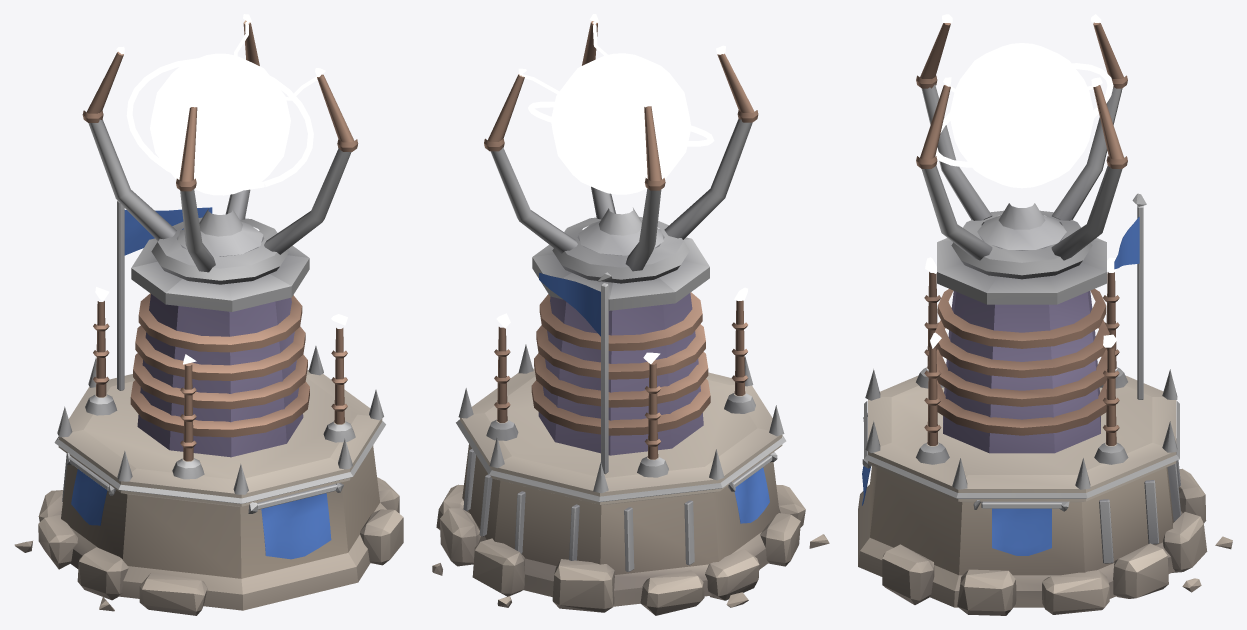
File: spark_2_8.glb
3 renders of one model, left to right at view 1: azimuth 30°, elevation 25°; view 2: azimuth 150°, elevation 25°; view 3: azimuth 270°, elevation 25°, orthographic. The views are drawn at different scales.
Parts seen in each view (by area): view 1: Tower, Turret; view 2: Tower, Turret; view 3: Tower, Turret.
Boxes of the visible parts, <box> form: Tower: <box>14,200,403,615</box>; Turret: <box>82,14,358,284</box>; Tower: <box>432,230,829,615</box>; Turret: <box>484,14,758,283</box>; Tower: <box>858,193,1232,615</box>; Turret: <box>916,14,1127,279</box>.
Size of the model in its own units: 3.56 by 5.15 by 3.51.
